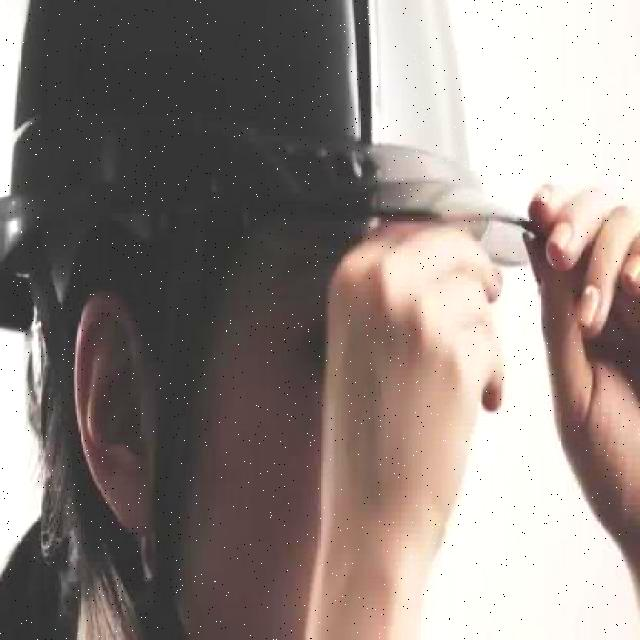Helmet: (0, 0, 548, 337)
